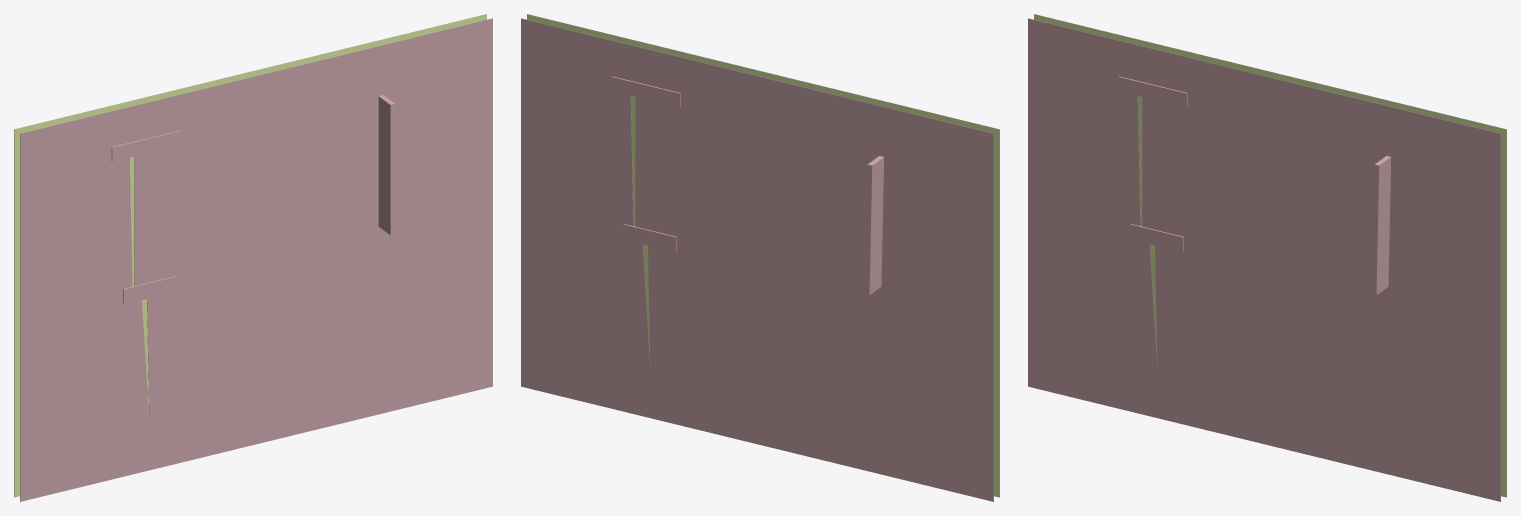
Rendered from Zombie.fbx.
3 views of the same model, side by side, from view 1: azimuth 30°, elevation 25°; view 2: azimuth 150°, elevation 25°; view 3: azimuth 330°, elevation 25° (orthographic).
Visible parts, largest first — view 1: 3d-model22_104, 3d-model6; view 2: 3d-model6, 3d-model22_104; view 3: 3d-model22_104, 3d-model6.
Part boxes in pixels (bbox=[...]): 3d-model22_104: bbox=[20, 18, 492, 501]; 3d-model6: bbox=[14, 14, 486, 497]; 3d-model6: bbox=[521, 18, 993, 501]; 3d-model22_104: bbox=[527, 14, 999, 497]; 3d-model22_104: bbox=[1028, 18, 1500, 501]; 3d-model6: bbox=[1034, 14, 1506, 497].
Bounding box in the file's own units: 487 × 53.56 × 362.
